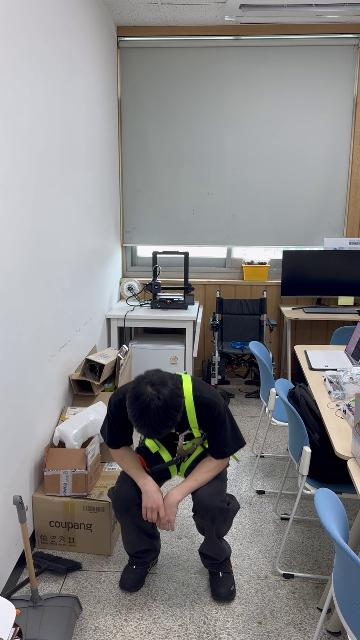helmet_not_worn: (123, 370, 182, 435)
shoe_worn: (117, 540, 164, 596), (202, 556, 242, 603)
vest_worn: (154, 376, 231, 480)
